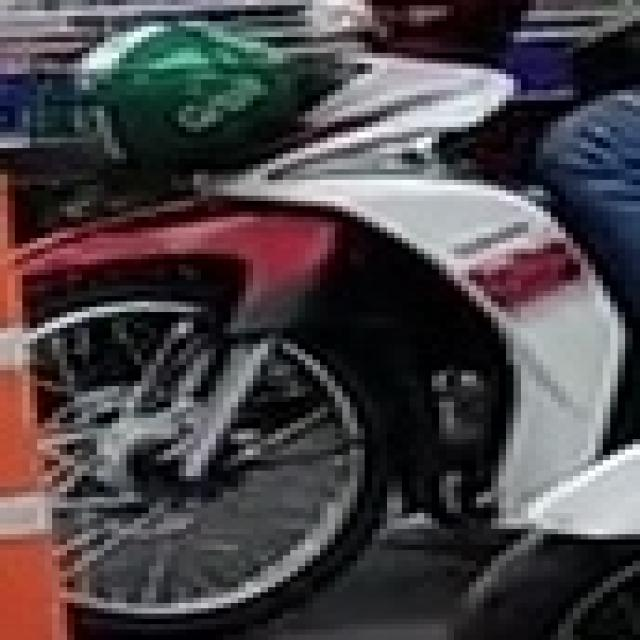door: (0, 164, 74, 634)
helmet: (67, 16, 305, 164), (305, 0, 528, 58)
tyre: (15, 280, 387, 635)
